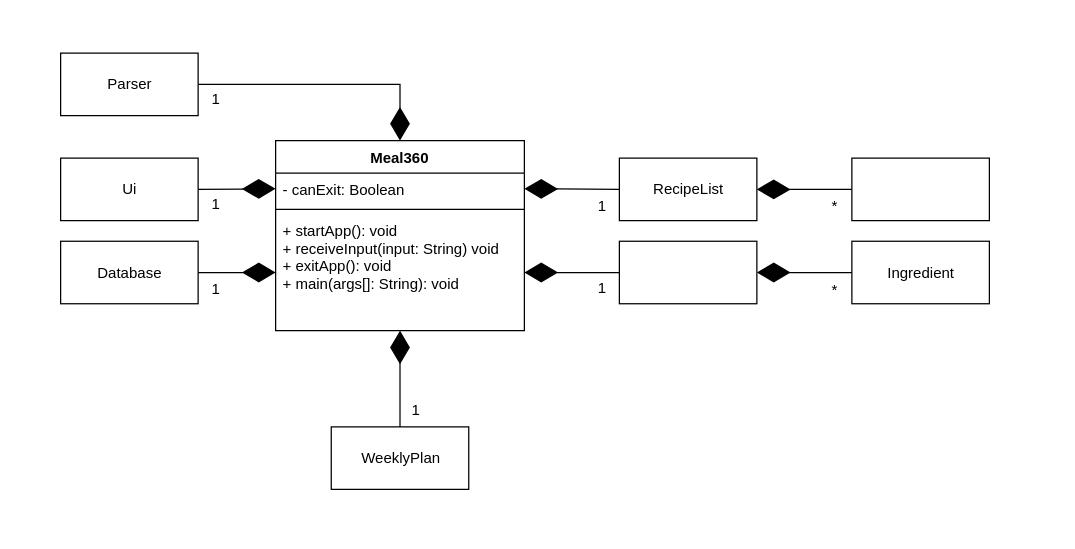
Some shapes in this 1075 by 549 pixel diagram are drawn without their labels. The shapes that lost their labels are listed below. From the top down, each one's centre as x and y in pixels, then its label:
At pixel 920 189: "Recipe".
At pixel 687 272: "IngredientList".
